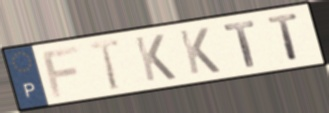F: (40, 44, 82, 100)
K: (132, 32, 179, 84), (176, 26, 223, 77)
T: (86, 37, 122, 93), (266, 11, 302, 63), (221, 19, 257, 70)
